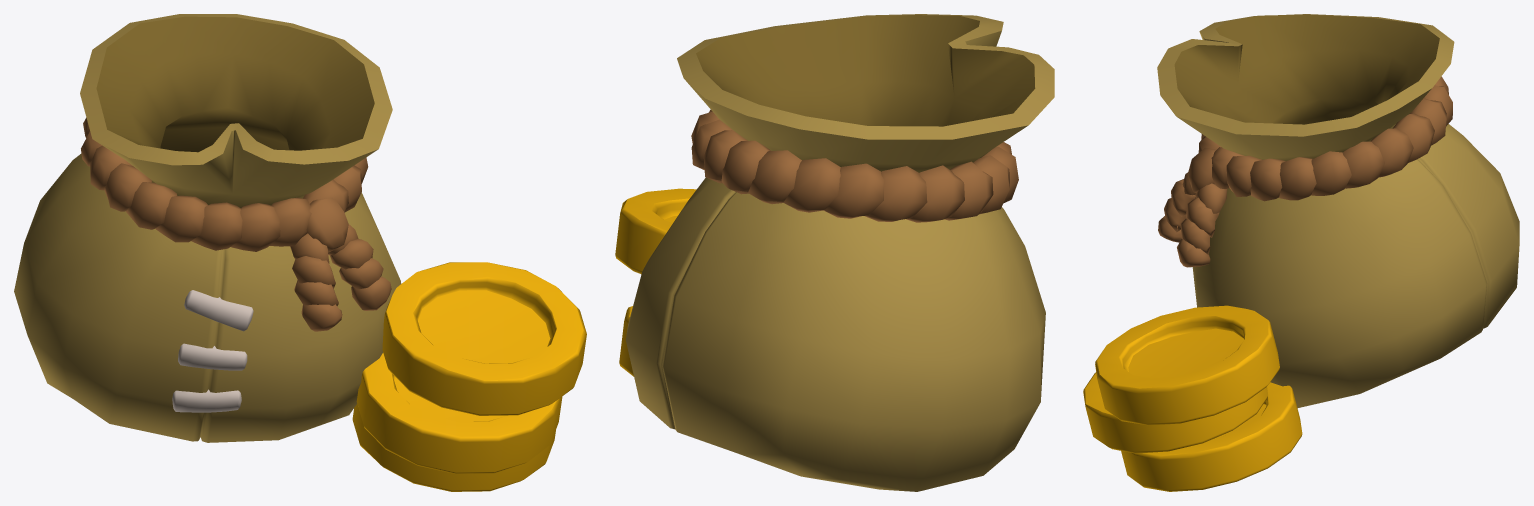
The picture shows the model from 3 angles, left to right: view 1: azimuth 30°, elevation 25°; view 2: azimuth 150°, elevation 25°; view 3: azimuth 270°, elevation 25°; orthographic projection. The views are drawn at different scales.
Visible parts, largest first — view 1: model_1.102; view 2: model_1.102; view 3: model_1.102.
Boxes of the visible parts, left/top/right/bottom form: model_1.102: left=14, top=14, right=586, bottom=491; model_1.102: left=615, top=14, right=1054, bottom=491; model_1.102: left=1083, top=14, right=1519, bottom=491.
Size of the model in its own units: 5.69 by 4.8 by 5.47.
